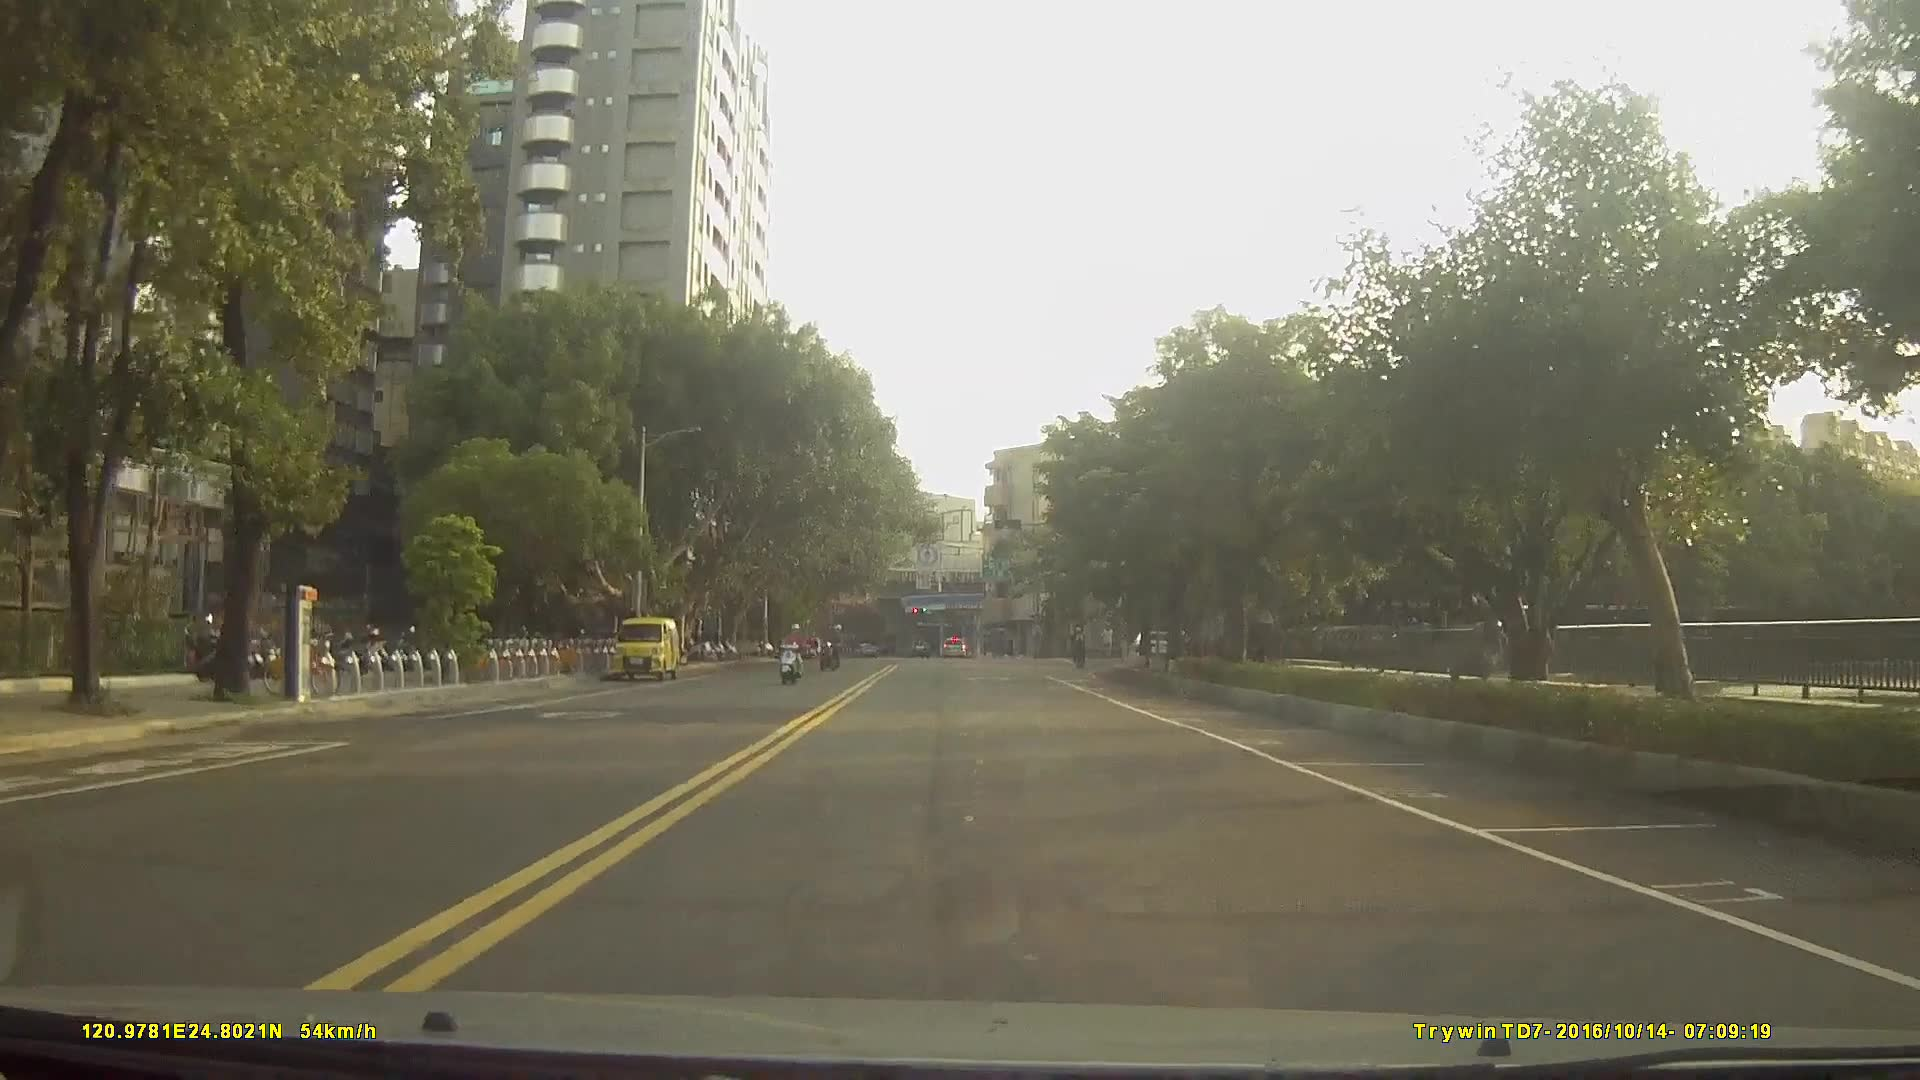pedestrian: (1097, 622, 1117, 661)
rider: (777, 616, 809, 677), (818, 621, 847, 673), (1069, 622, 1089, 669)
vehicle: (936, 633, 966, 658)
